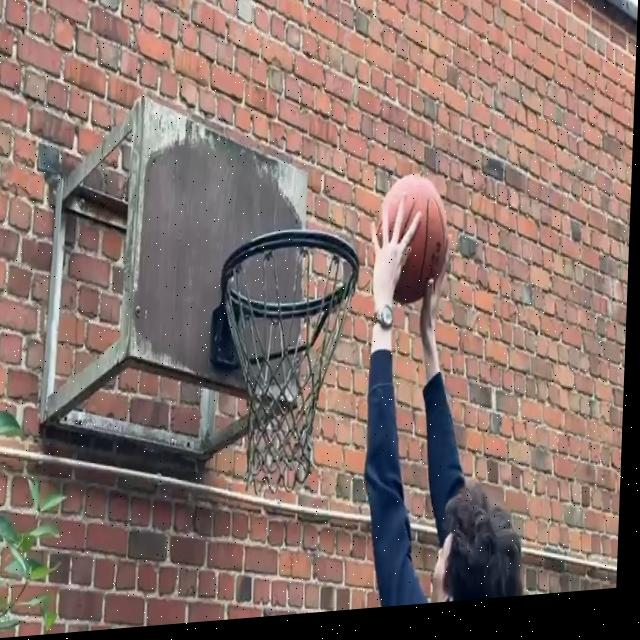Basketball: (371, 175, 449, 307)
